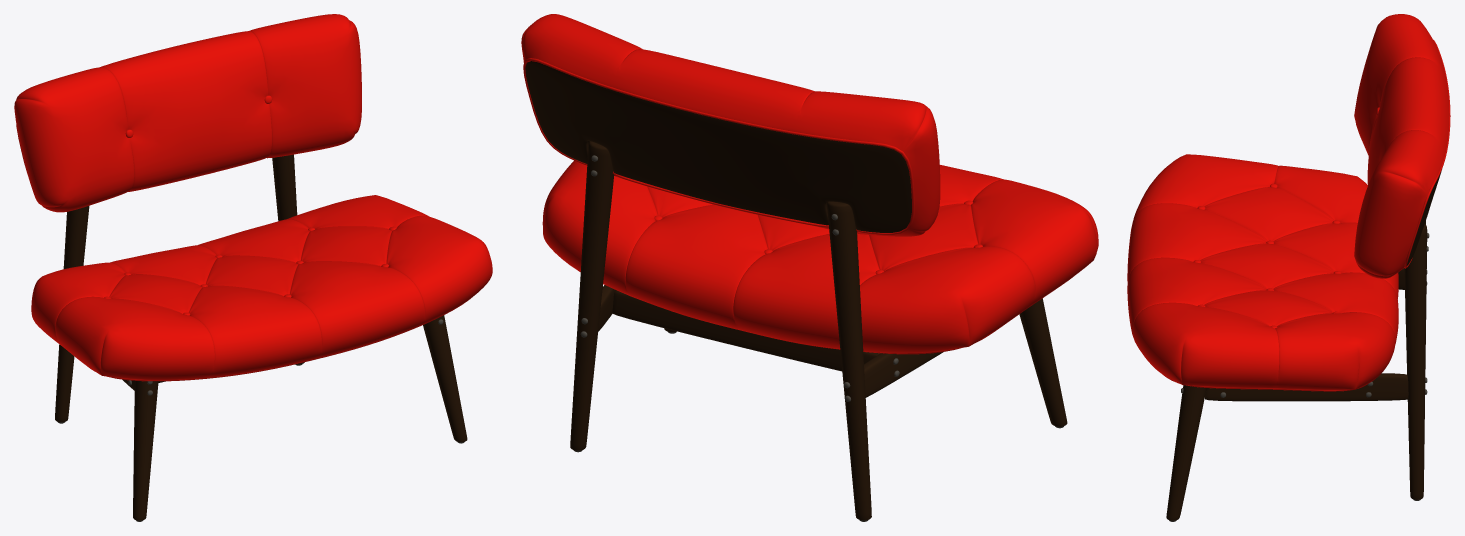
Rendered from SheenChair.obj.
3 views of the same model, side by side, from view 1: azimuth 30°, elevation 25°; view 2: azimuth 150°, elevation 25°; view 3: azimuth 270°, elevation 25° (orthographic). The views are drawn at different scales.
Parts seen in each view (by area): view 1: SheenChair_m0, SheenChair_m1; view 2: SheenChair_m0, SheenChair_m1; view 3: SheenChair_m0, SheenChair_m1.
Part boxes in pixels (x1,y1,x2,y2): SheenChair_m0: [14, 14, 492, 381]; SheenChair_m1: [55, 154, 467, 520]; SheenChair_m0: [521, 14, 1098, 354]; SheenChair_m1: [525, 61, 1067, 520]; SheenChair_m0: [1127, 14, 1450, 391]; SheenChair_m1: [1166, 170, 1441, 520].
Bounding box in the file's own units: 0.8266 × 0.6862 × 0.5703.
